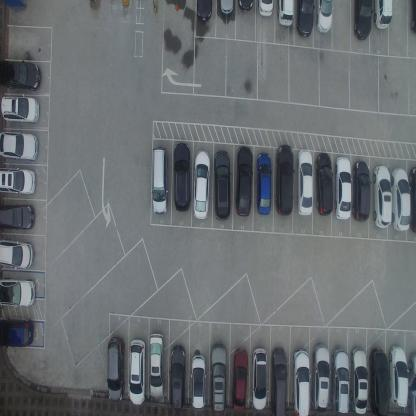car: (275, 142, 296, 216), (369, 348, 390, 415), (0, 58, 41, 92), (172, 141, 191, 213), (390, 168, 411, 232), (235, 144, 253, 218), (0, 94, 41, 126), (292, 348, 311, 416), (107, 335, 126, 402), (192, 150, 210, 220), (151, 146, 169, 216), (388, 344, 408, 407), (210, 341, 227, 414), (373, 164, 392, 229), (350, 348, 368, 416), (128, 338, 146, 405), (313, 343, 330, 413), (334, 156, 352, 222), (332, 348, 350, 414), (352, 160, 371, 222), (296, 148, 313, 217), (0, 131, 39, 161), (214, 149, 230, 222), (148, 331, 165, 399), (270, 348, 287, 416), (315, 152, 333, 216), (0, 316, 34, 349), (0, 278, 36, 309), (0, 238, 34, 270), (251, 346, 268, 410), (170, 344, 186, 411), (0, 201, 35, 231), (0, 167, 36, 196), (256, 150, 272, 215), (232, 348, 248, 412), (190, 354, 206, 410), (352, 0, 372, 41), (295, 0, 314, 38), (371, 0, 393, 30), (316, 0, 332, 35), (276, 0, 295, 29), (408, 167, 416, 234), (408, 351, 415, 415), (195, 0, 212, 22), (256, 0, 274, 19), (218, 0, 234, 17), (409, 0, 416, 38), (237, 0, 253, 12)
